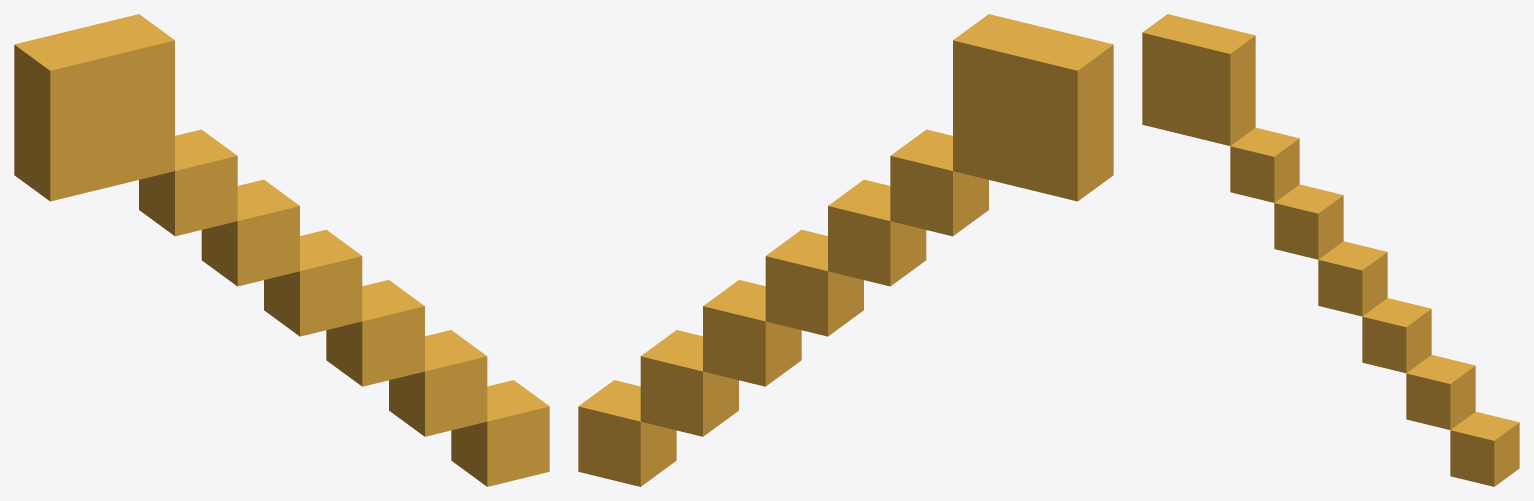
Rendered from Spear-Orange.vox.obj.
3 views of the same model, side by side, from view 1: azimuth 30°, elevation 25°; view 2: azimuth 150°, elevation 25°; view 3: azimuth 330°, elevation 25° (orthographic). The views are drawn at different scales.
Bounding box in the file's own units: 0.8 × 0.8 × 0.1.
Materials: 1 (1 with a texture image).
